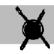not correct: (12, 3, 51, 52)
